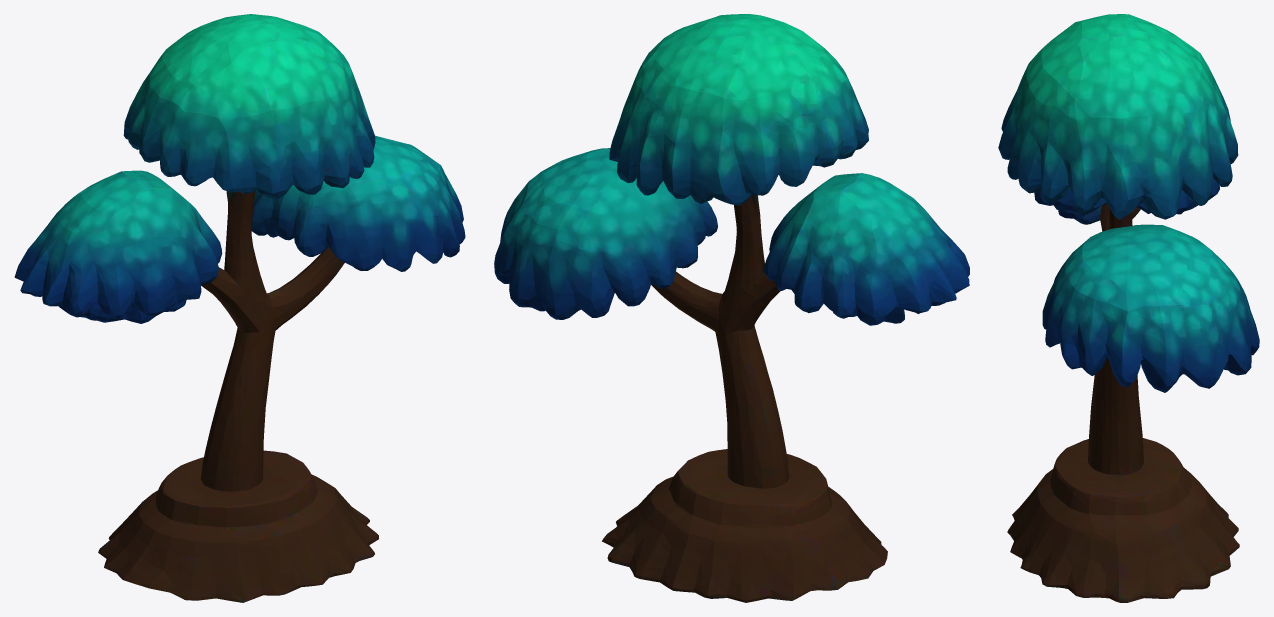
Rendered from familiarity_tree-2.glb.
3 views of the same model, side by side, from view 1: azimuth 30°, elevation 25°; view 2: azimuth 150°, elevation 25°; view 3: azimuth 270°, elevation 25° (orthographic).
Visible parts, largest first — view 1: world; view 2: world; view 3: world.
Part boxes in pixels (x1=…): world: x1=14, y1=14, x2=465, y2=602; world: x1=494, y1=14, x2=969, y2=602; world: x1=998, y1=14, x2=1259, y2=602.
Bounding box in the file's own units: 0.8658 × 0.9977 × 0.4548.
1 material, 1 textured.
